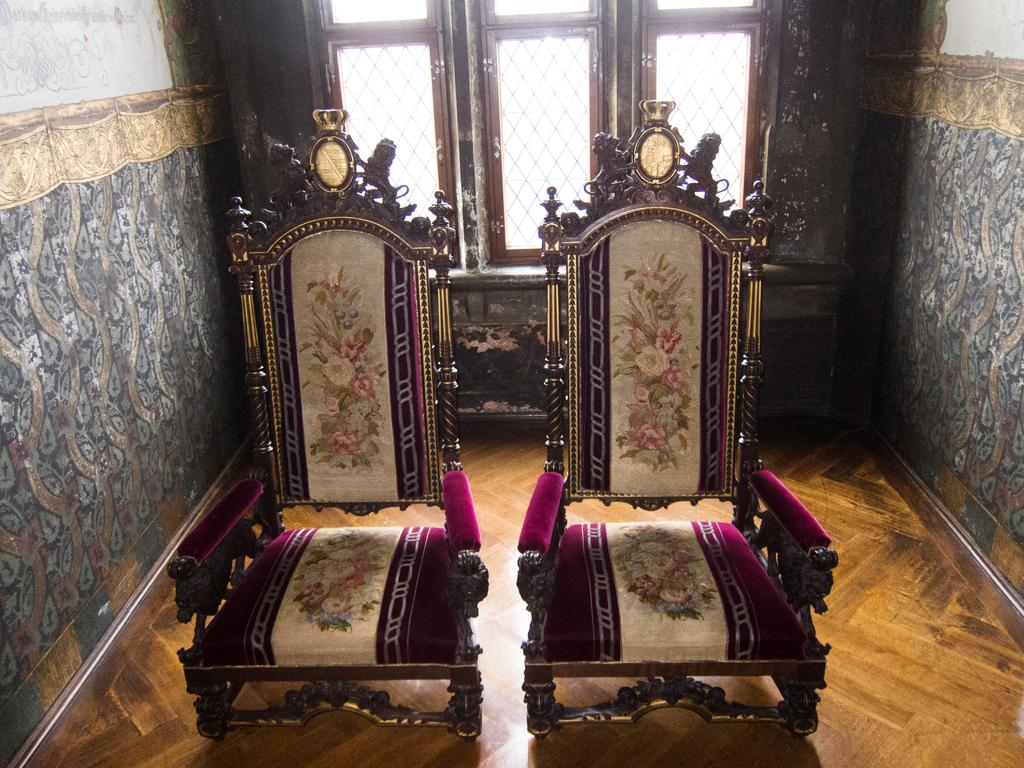Chair: (168, 109, 488, 748), (516, 200, 841, 731)
